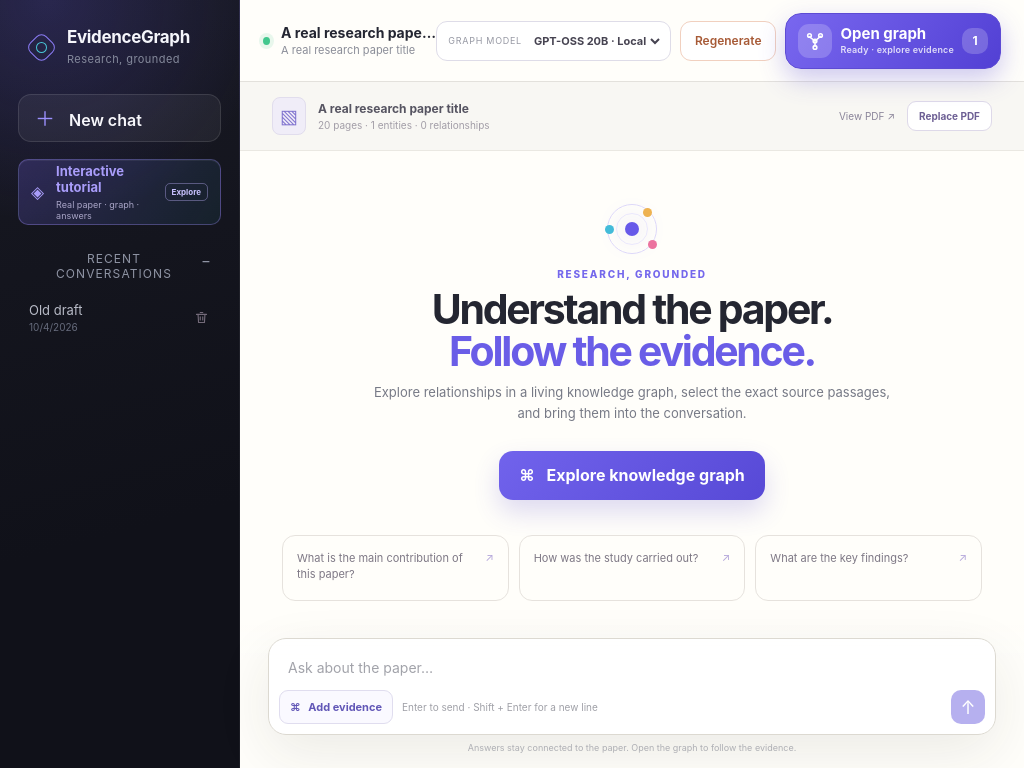
Scenario: same-paper conversation navigation and grounded chat › keeps the confirmation open with an actionable error when deletion fails
Click the button named "Delete conversation Old draft": (201,317) [187, 303, 215, 331]
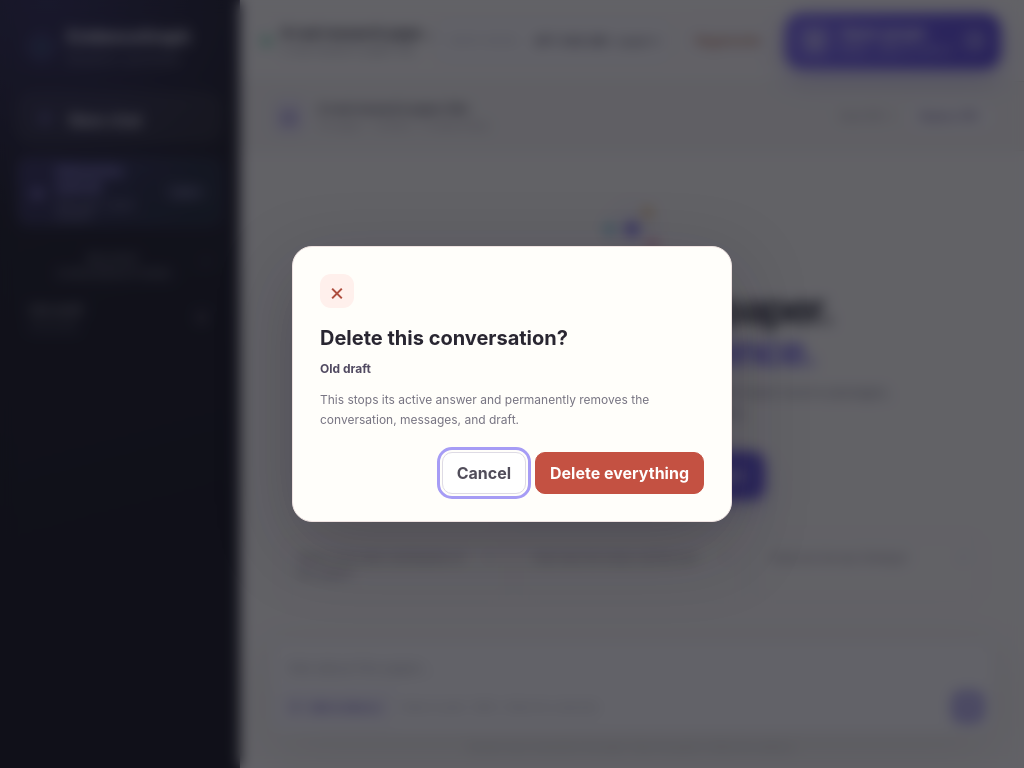
Click the button "Delete everything": (620,473) [535, 452, 704, 494]
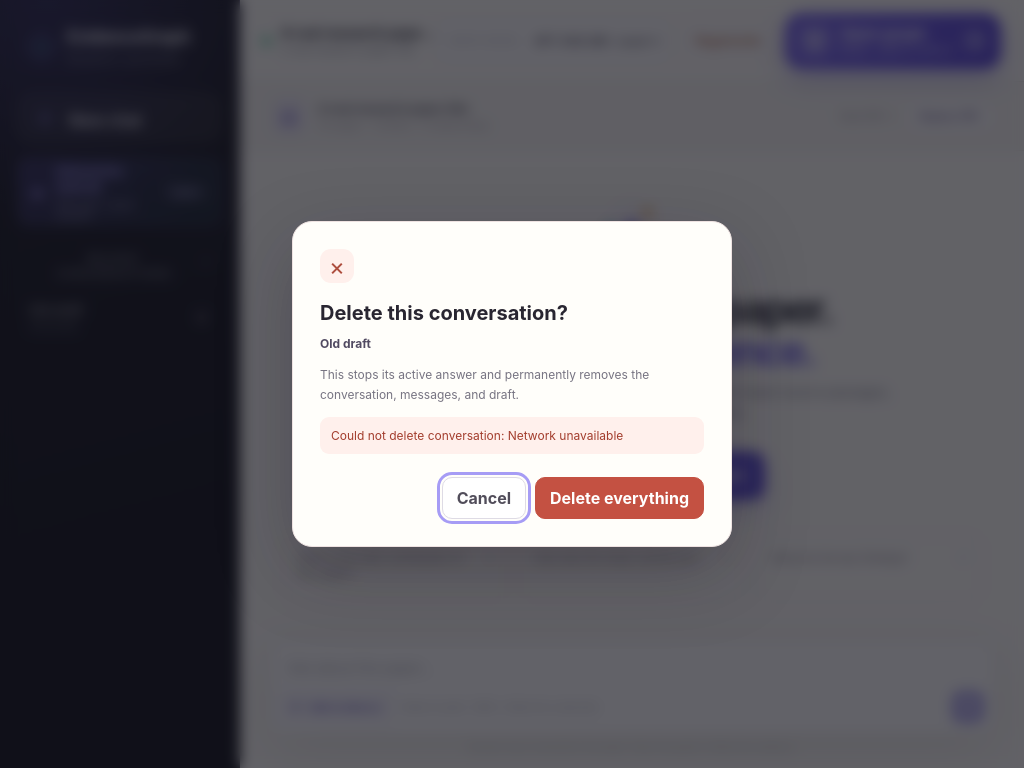
Check: the dialog is shown, box [292, 221, 732, 547]
Check: the message shows "Network unavailable", box [508, 428, 623, 443]
